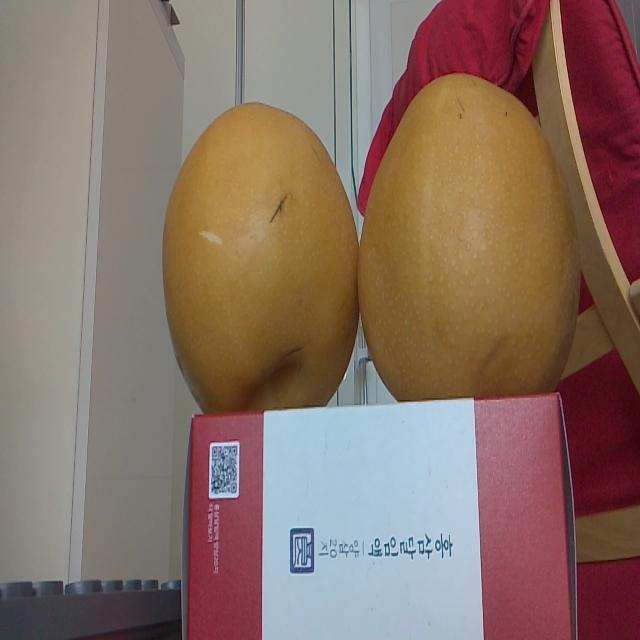pear: (360, 70, 579, 396), (160, 98, 360, 409)
